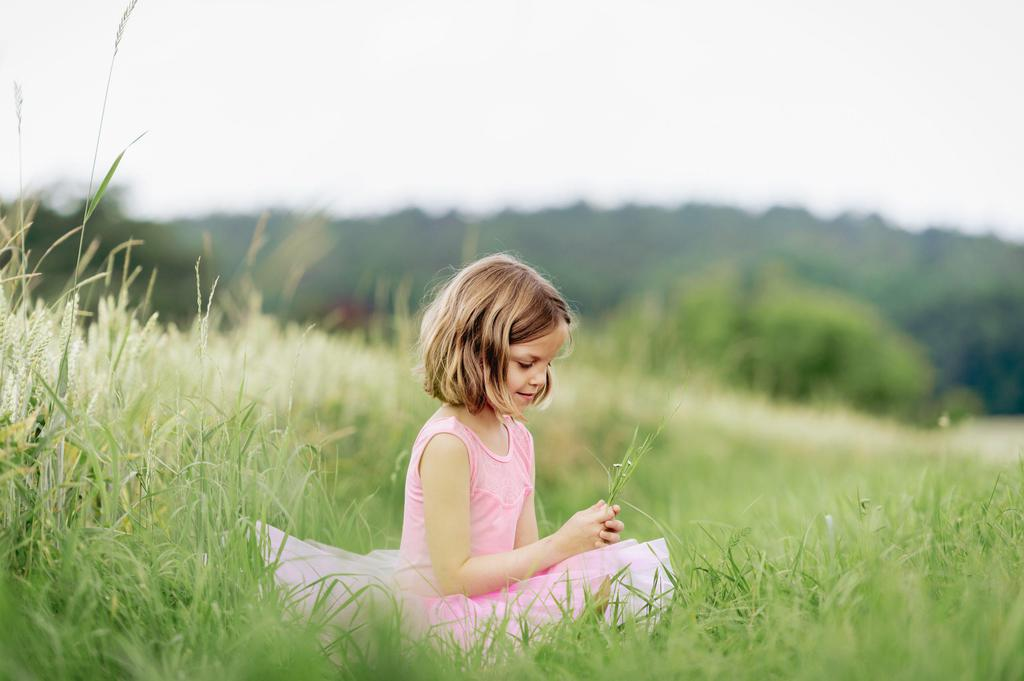child: (247, 245, 697, 644)
